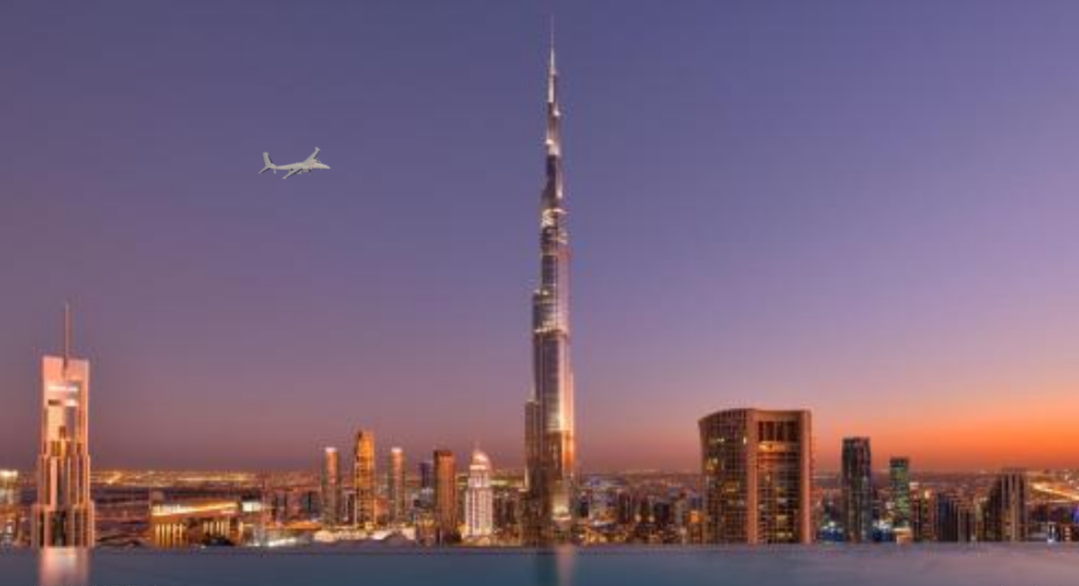military drone: (257, 145, 330, 179)
